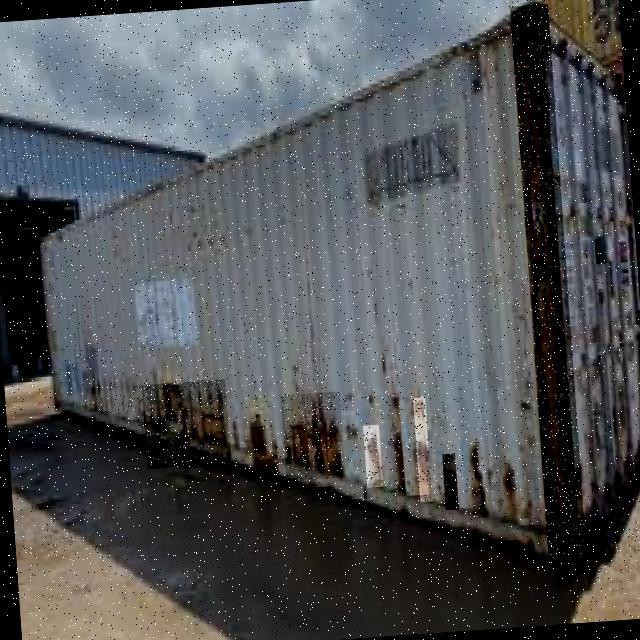Rust: (510, 4, 587, 560), (141, 379, 231, 469), (280, 392, 345, 482), (411, 397, 432, 502), (384, 393, 405, 496), (248, 414, 278, 478), (469, 441, 486, 518), (363, 424, 383, 487), (502, 453, 518, 527), (442, 453, 459, 510)
